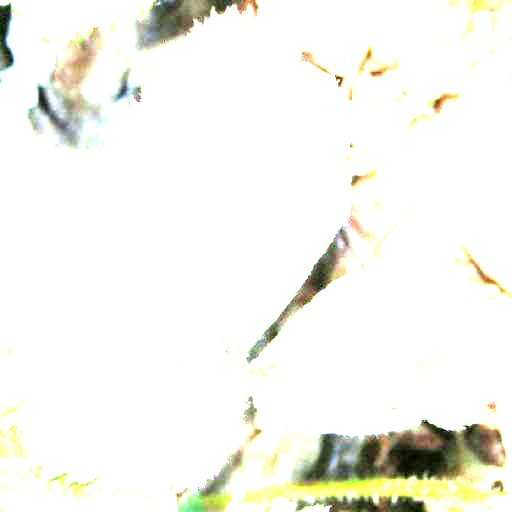Leaf Spot: (120, 4, 356, 361), (0, 255, 243, 504), (245, 263, 501, 435)
